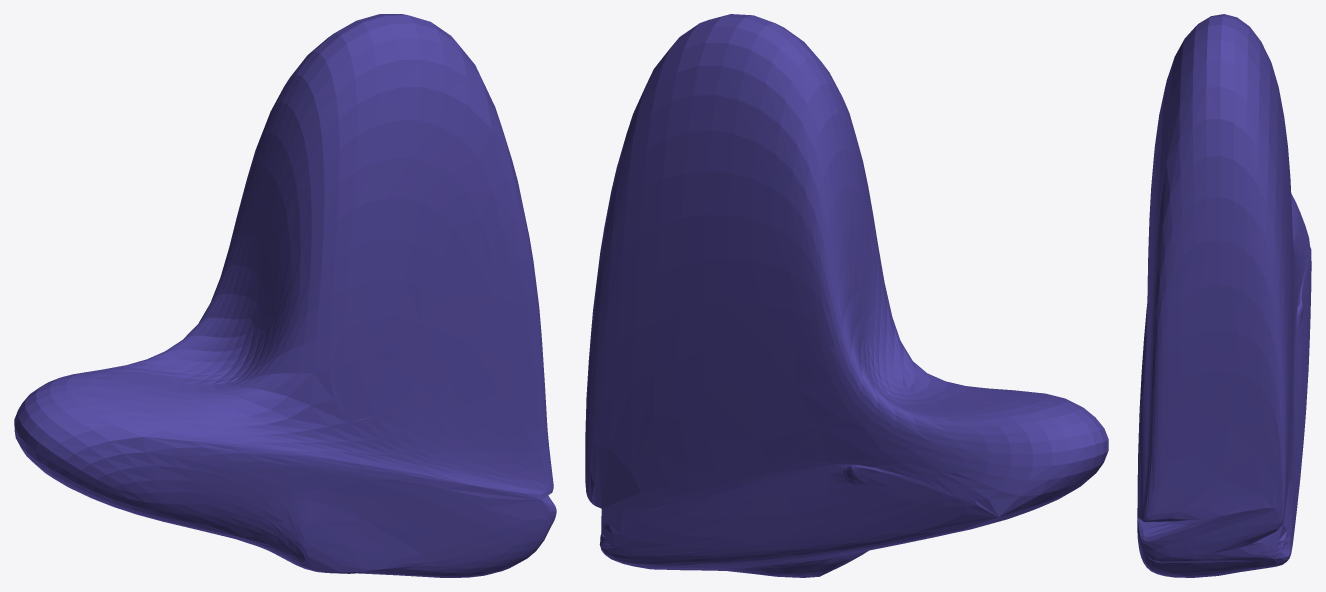
The picture shows the model from 3 angles, left to right: view 1: azimuth 30°, elevation 25°; view 2: azimuth 150°, elevation 25°; view 3: azimuth 270°, elevation 25°; orthographic projection. The views are drawn at different scales.
Visible parts, largest first — view 1: 052_Cube.212; view 2: 052_Cube.212; view 3: 052_Cube.212.
Boxes of the visible parts, x1,y1,x2,y2 form: 052_Cube.212: [14, 14, 556, 577]; 052_Cube.212: [585, 14, 1108, 577]; 052_Cube.212: [1137, 14, 1311, 577].
Bounding box in the file's own units: 11.03 × 12.04 × 3.69.
